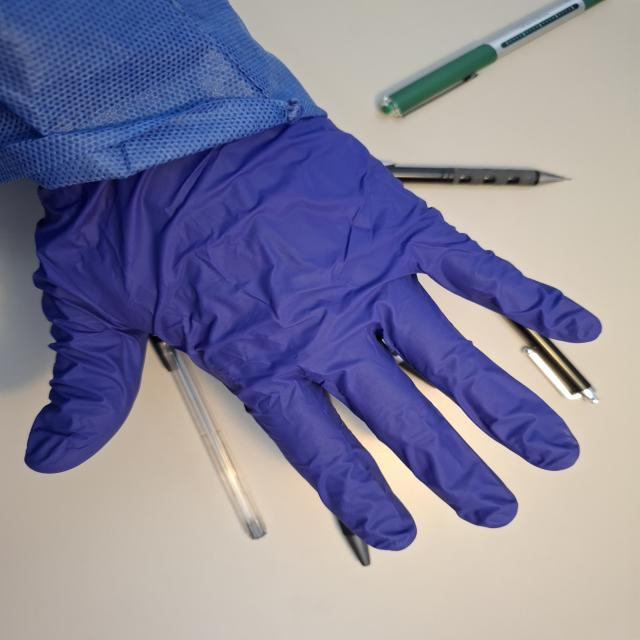glove_on: (20, 111, 607, 553)
